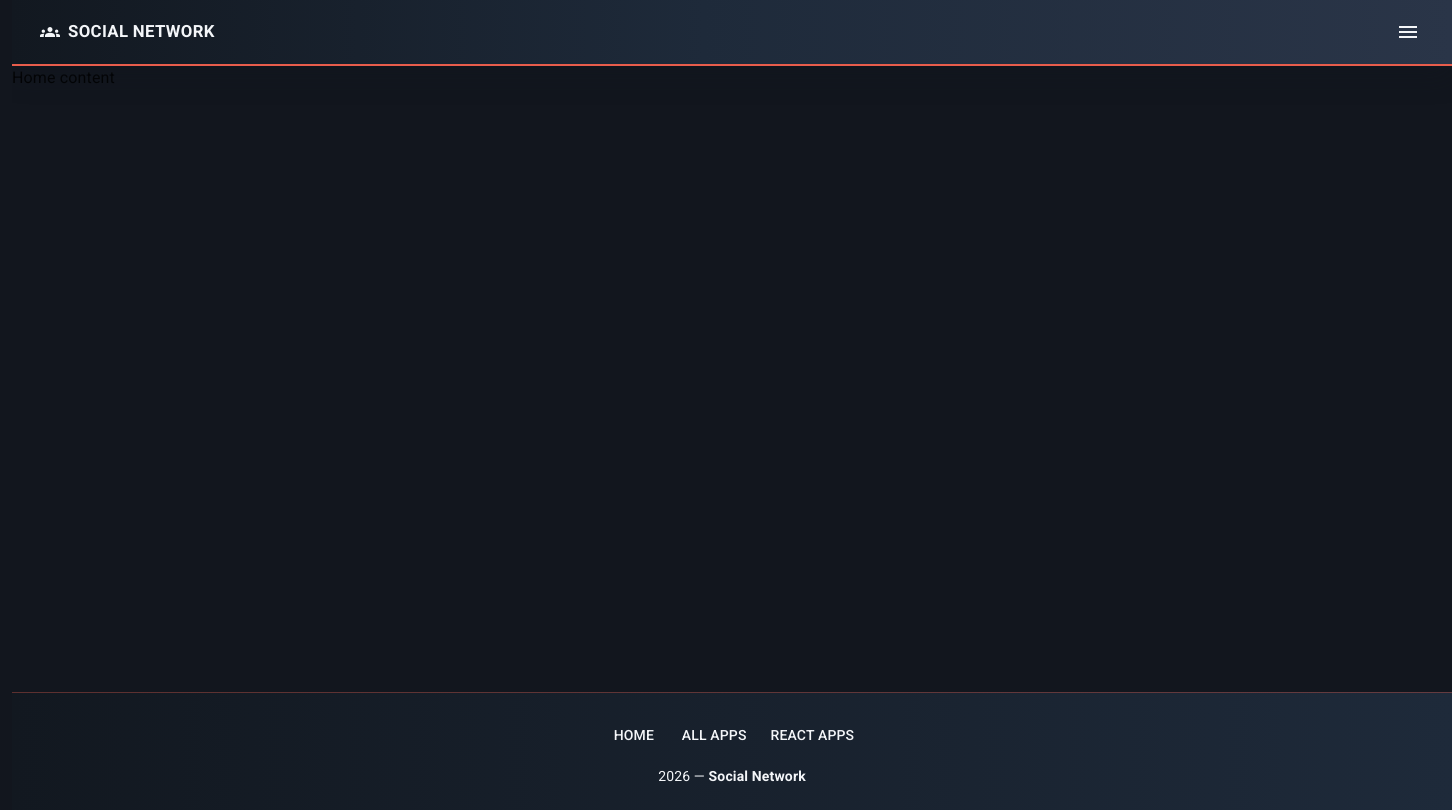
Test case: MainSocialLayout › opens mobile profile link for authenticated users
Click the button named "Open menu": (1408, 32) [1388,12,1428,52]
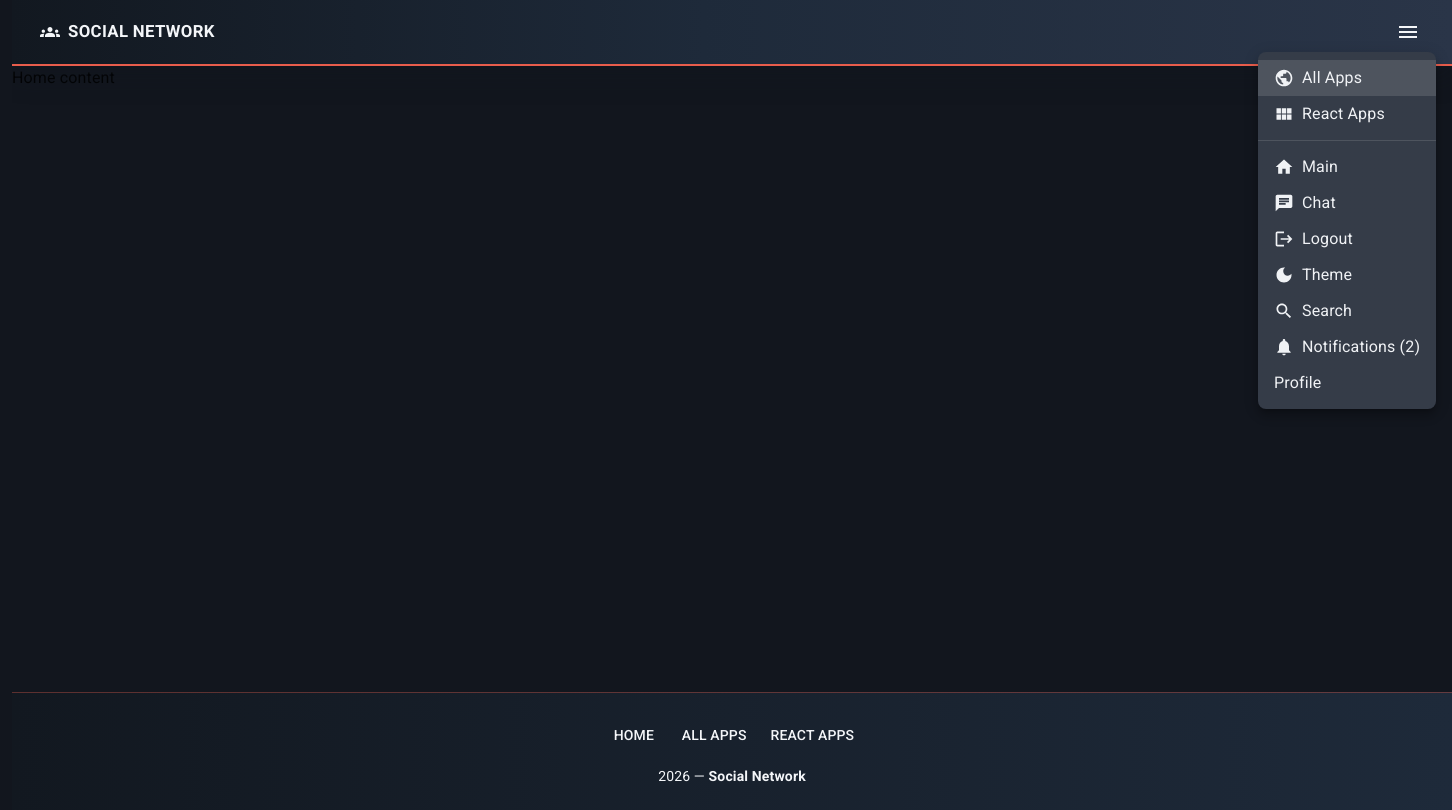
Check: the menu item "Profile" is shown, box [1274,373,1321,392]
